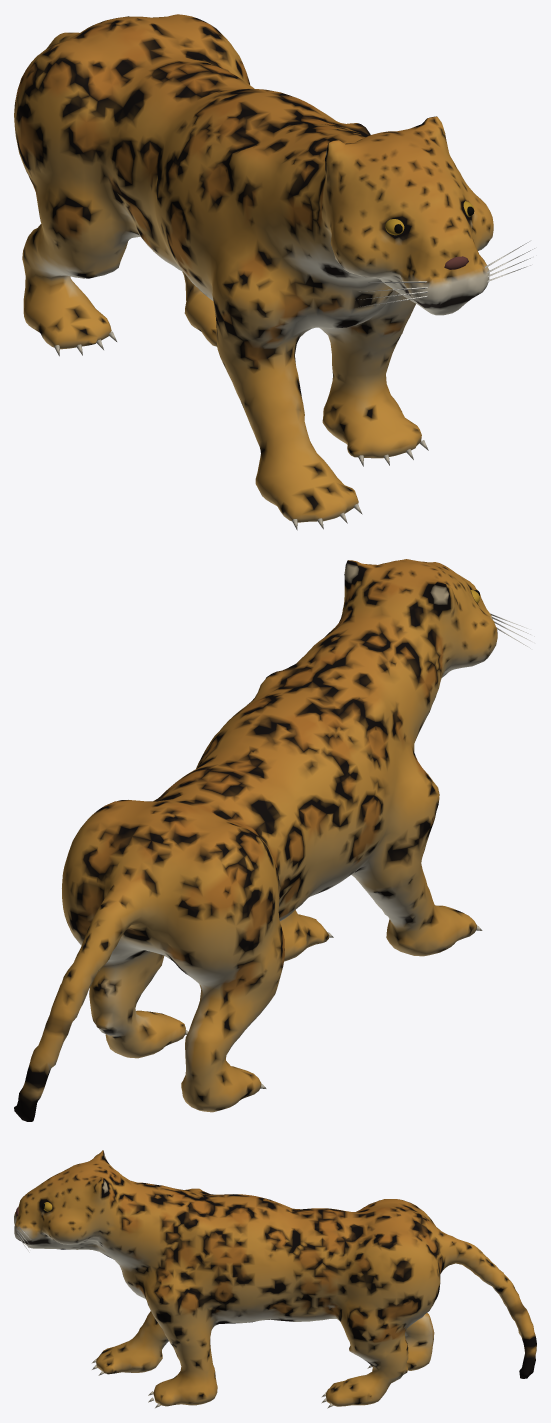
File: Jaguar.fbx
3 views of the same model, one above another, from view 1: azimuth 30°, elevation 25°; view 2: azimuth 150°, elevation 25°; view 3: azimuth 270°, elevation 25° (orthographic). The views are drawn at different scales.
Visible parts, largest first — view 1: Jaguar; view 2: Jaguar; view 3: Jaguar.
Part boxes in pixels (box(x1,y1,x2,y2)): Jaguar: box(14, 14, 534, 530); Jaguar: box(14, 559, 534, 1121); Jaguar: box(14, 1150, 536, 1408).
Bounding box in the file's own units: 0.5398 × 0.9551 × 2.04.
